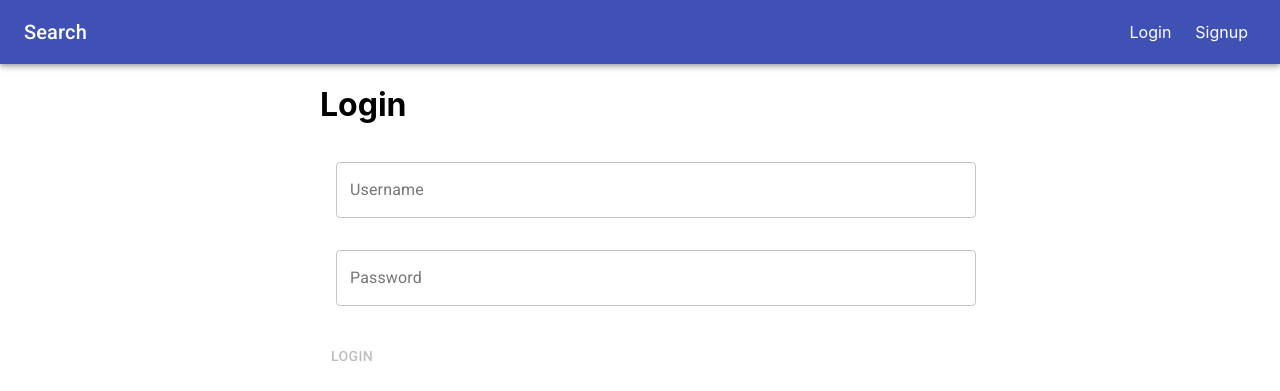
it: disables submit button if username and password are not entered correctly
The width and height of the screenshot is (1280, 391).
Check: the button is disabled, box [320,338,384,374]
Type "username" into the field labelled "Username". click: (656, 190)
box: [336,162,976,218]
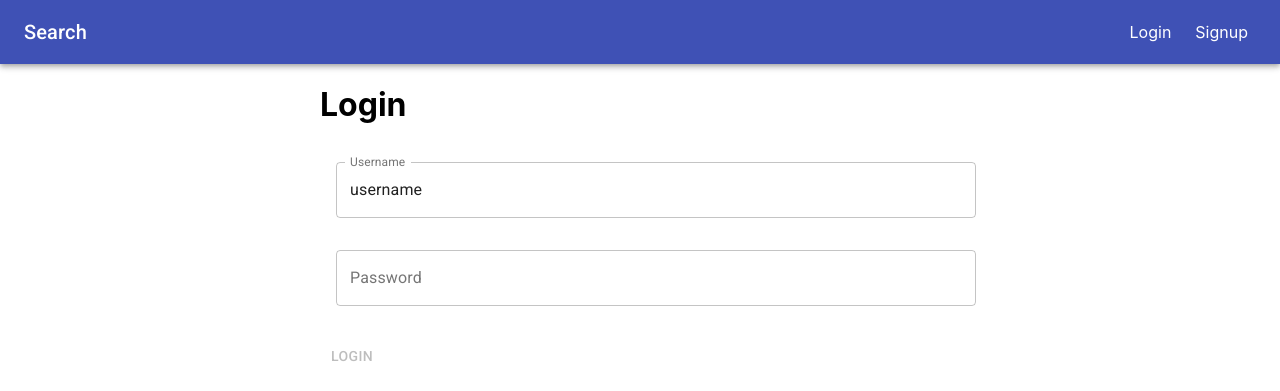
Check: the button is disabled, box [320,338,384,374]
Type "password" into the password field labelled "Password". click: (656, 278)
box: [336,250,976,306]
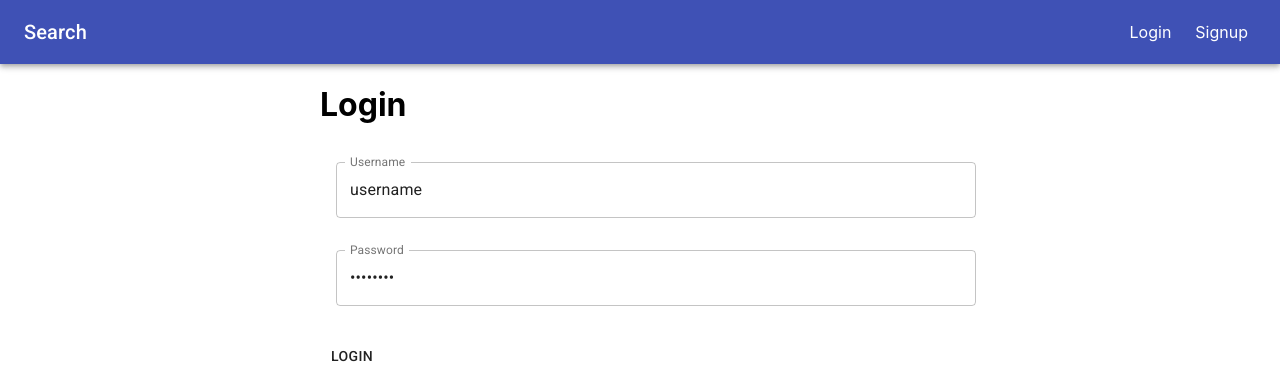
Check: the button is enabled, box [320,338,384,374]
Clear the field labelled "Username". click: (656, 190)
box: [336,162,976,218]
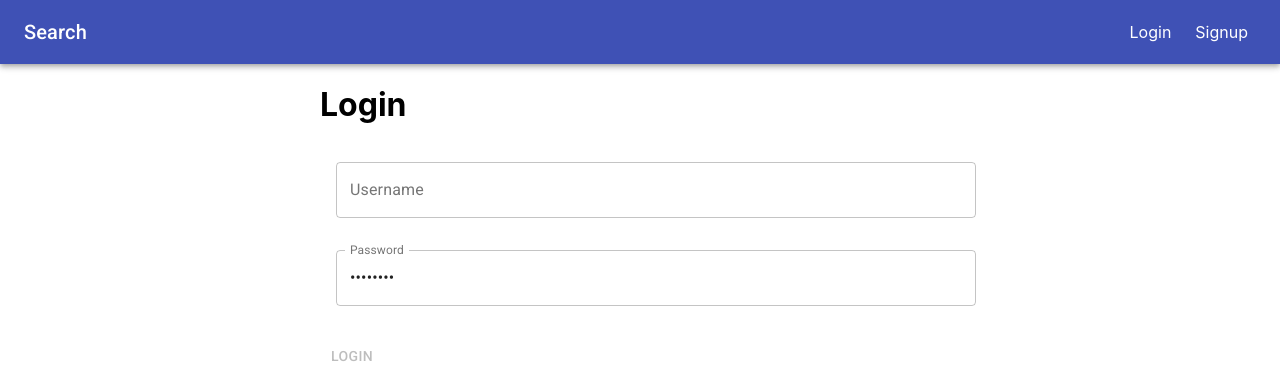
Check: the button is disabled, box [320,338,384,374]
